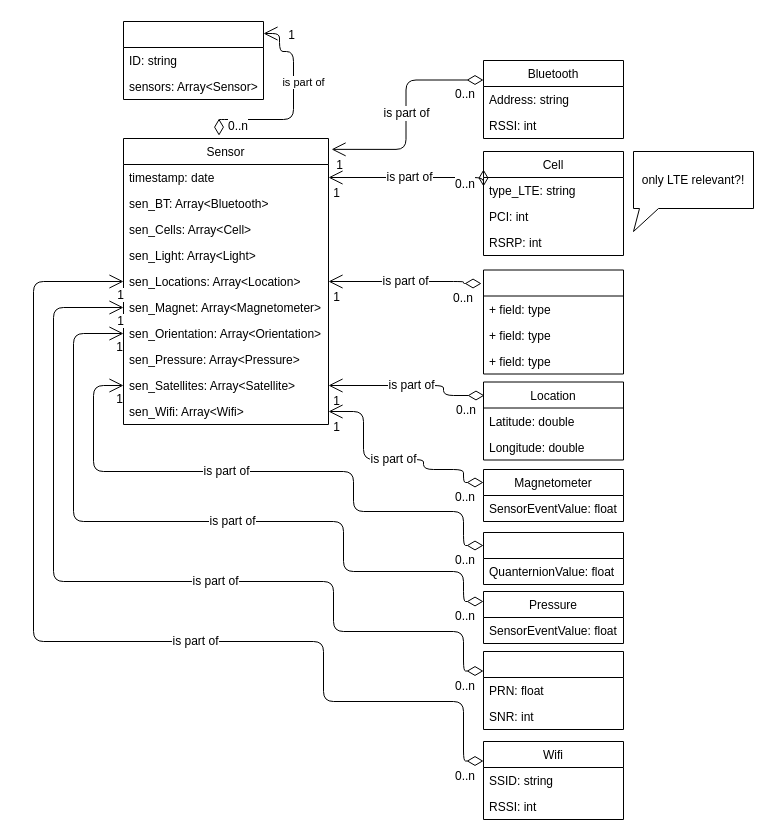
Image size: 771x840. Some labels were removed from this diagram. Each missing label, with the box of its shape:
Classname: (482, 269, 624, 374)
Orientation: (482, 532, 624, 584)
Raum: (122, 20, 264, 100)
Satellite: (482, 650, 624, 730)
